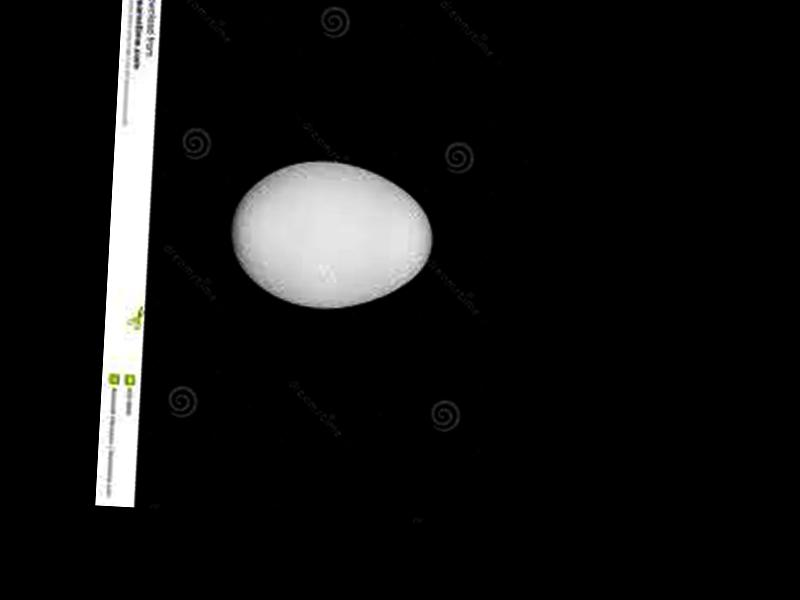Eggs: (227, 157, 435, 318)
